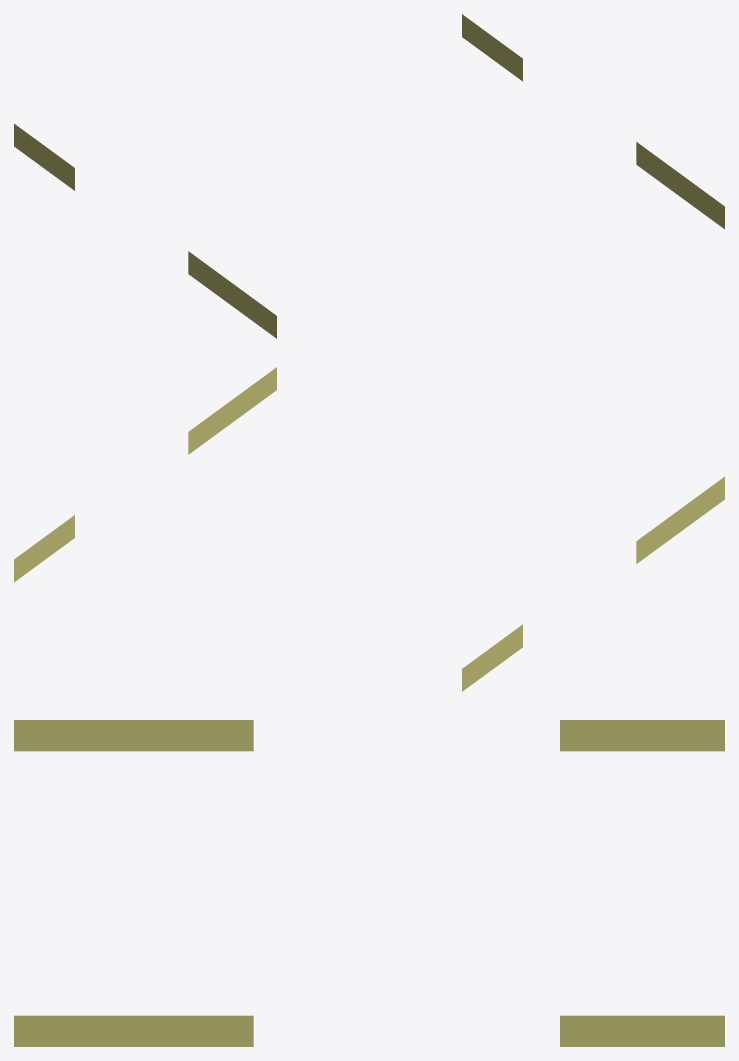
File: sr-markings.dae
The picture shows the model from 3 angles, top to bottom: view 1: azimuth 30°, elevation 25°; view 2: azimuth 150°, elevation 25°; view 3: azimuth 270°, elevation 25°; orthographic projection. The views are drawn at different scales.
Parts seen in each view (by area): view 1: Plane_028, Plane_036, Plane_034, Plane_035; view 2: Plane_028, Plane_036, Plane_034, Plane_035; view 3: Plane_028, Plane_036, Plane_034, Plane_035.
Boxes of the visible parts, box(x1,y1,x2,y2) form: Plane_028: box(636, 142, 724, 229); Plane_036: box(188, 251, 276, 338); Plane_034: box(462, 14, 522, 81); Plane_035: box(14, 123, 74, 190); Plane_028: box(188, 367, 276, 454); Plane_036: box(636, 476, 724, 563); Plane_034: box(14, 515, 74, 582); Plane_035: box(462, 624, 522, 691); Plane_028: box(14, 1015, 253, 1046); Plane_036: box(14, 720, 253, 751); Plane_034: box(560, 1015, 724, 1046); Plane_035: box(560, 720, 724, 751).
Size of the model in its own units: 1.72 by 1.75 by 0.0847.
